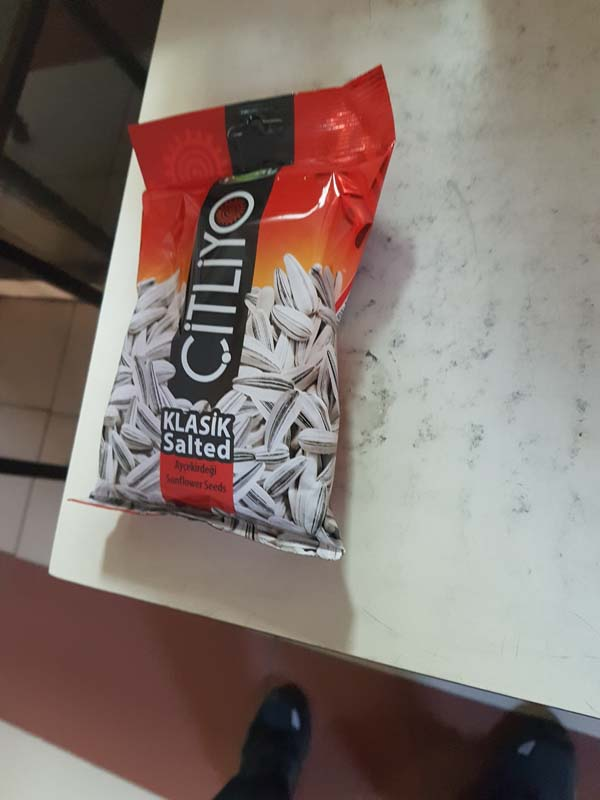citliyorklasik: (73, 58, 405, 578)
